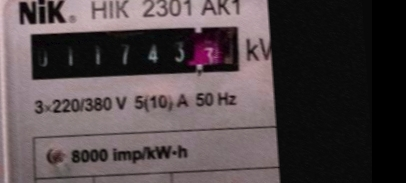0: (32, 40, 48, 68)
1: (59, 38, 75, 67), (87, 37, 102, 66)
3: (168, 36, 184, 64), (198, 44, 214, 66)
4: (142, 38, 158, 64)
7: (114, 38, 130, 64)
screen: (18, 12, 248, 92)
